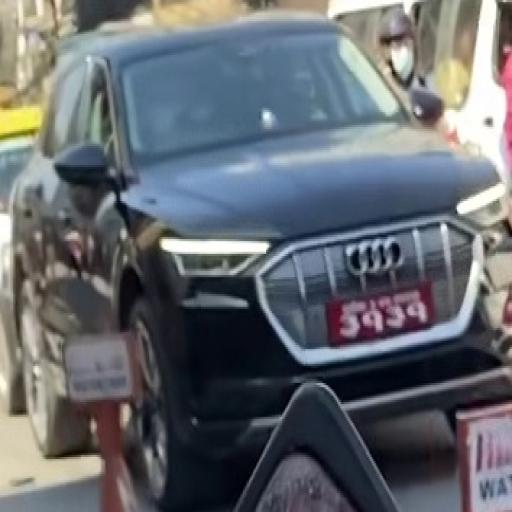license_plate: (324, 278, 439, 353)
